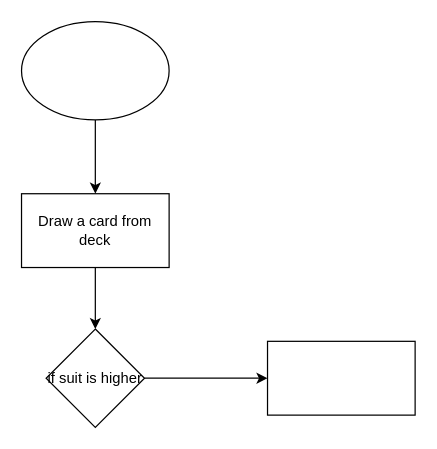
Image size: 437x449. Some labels were removed from this diagram. Here are the shapes that lost their labels. From the top down, the centre of each, then its label:
At (x=94, y=70): "Start".
At (x=340, y=377): "score +=1".
